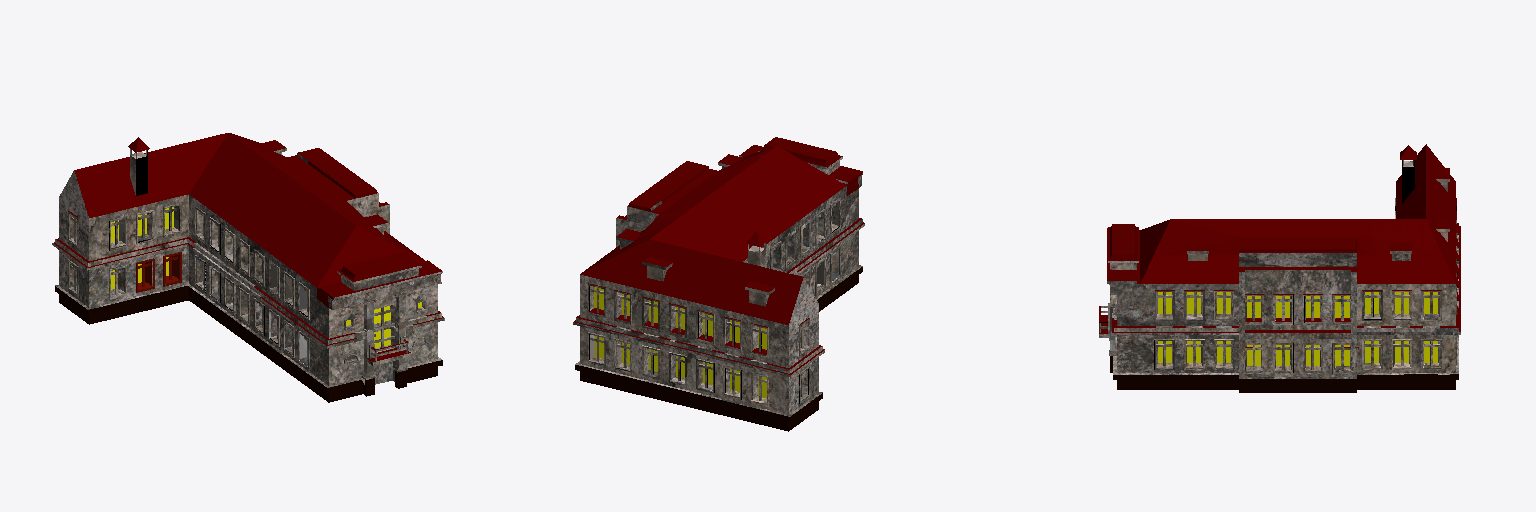
The picture shows the model from 3 angles: view 1: azimuth 30°, elevation 25°; view 2: azimuth 150°, elevation 25°; view 3: azimuth 270°, elevation 25°; orthographic projection.
Parts seen in each view (by area): view 1: SmartSeparate_80; view 2: SmartSeparate_80; view 3: SmartSeparate_80.
Part boxes in pixels (x1,y1,x2,y2): SmartSeparate_80: (52, 133, 444, 402); SmartSeparate_80: (573, 137, 864, 431); SmartSeparate_80: (1099, 144, 1460, 392).
Size of the model in its own units: 15.53 by 11.13 by 21.53.
Materials: 5 (1 with a texture image).